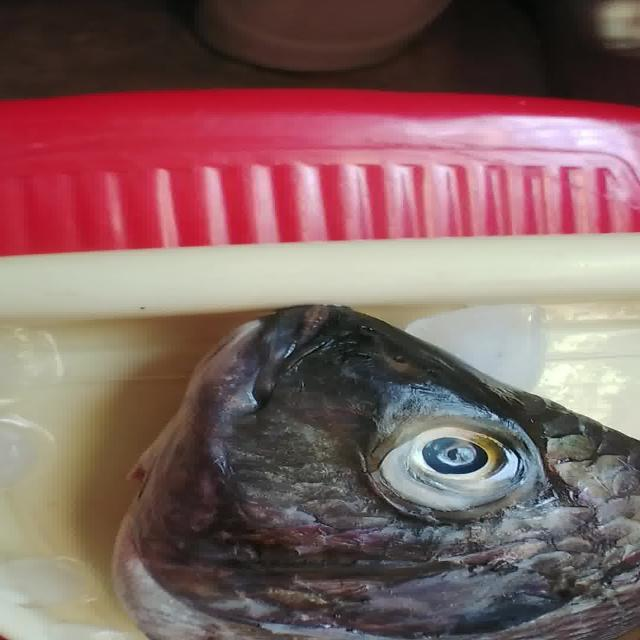Fresh: (304, 366, 630, 526)
